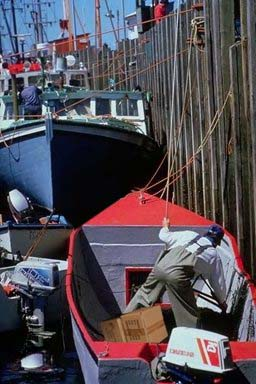copymove: (17, 350, 60, 373)
removal: (70, 190, 127, 226)
spliced: (98, 303, 168, 344)
